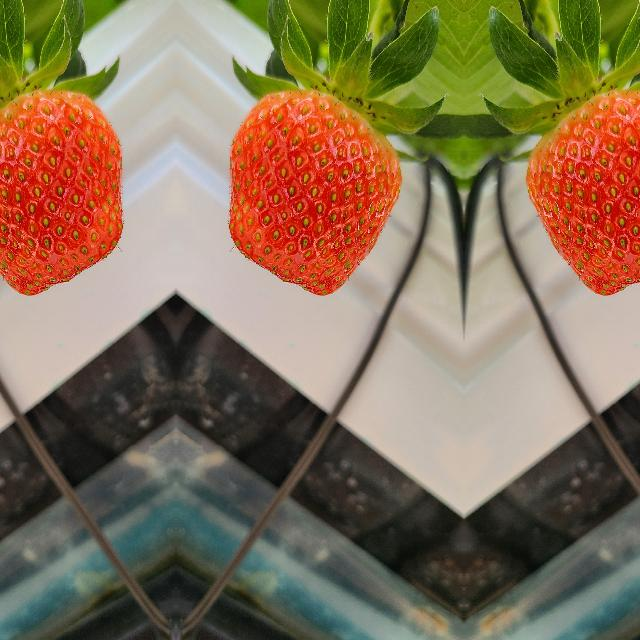Health_100: (226, 90, 400, 296), (0, 89, 124, 296), (525, 89, 640, 296)
